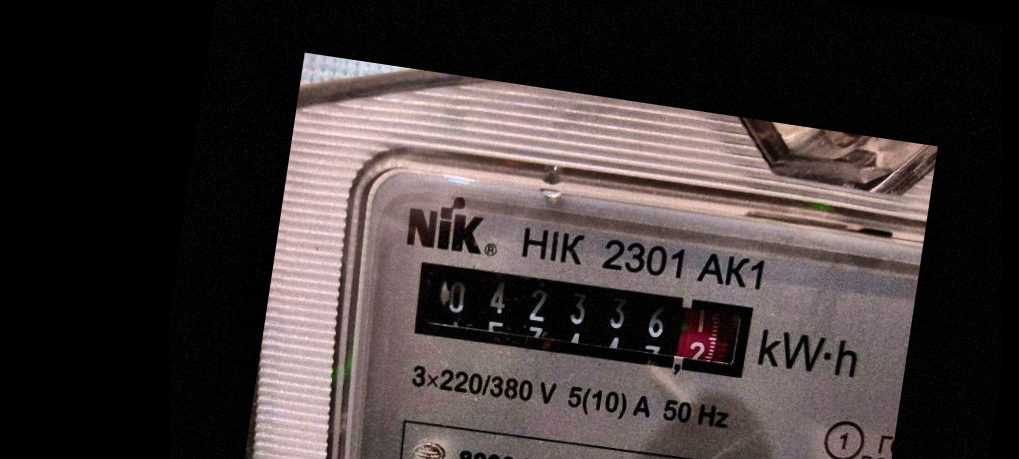0: (445, 277, 470, 315)
1: (693, 305, 710, 335)
2: (526, 285, 551, 324), (686, 338, 708, 362)
3: (567, 287, 591, 328), (605, 293, 630, 331)
4: (487, 276, 511, 316)
6: (643, 302, 670, 339)
screen: (403, 247, 765, 391)
